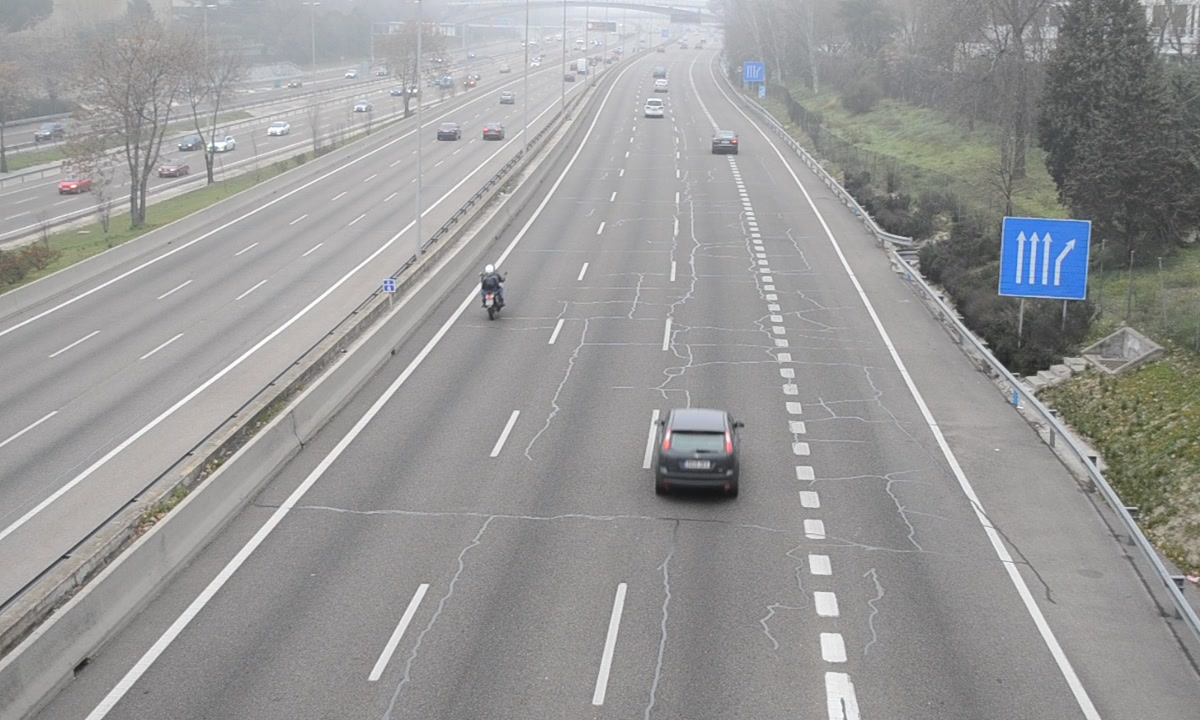car: (657, 408, 740, 495), (712, 131, 737, 153), (645, 98, 665, 119)
motorcycle: (476, 264, 507, 325)
